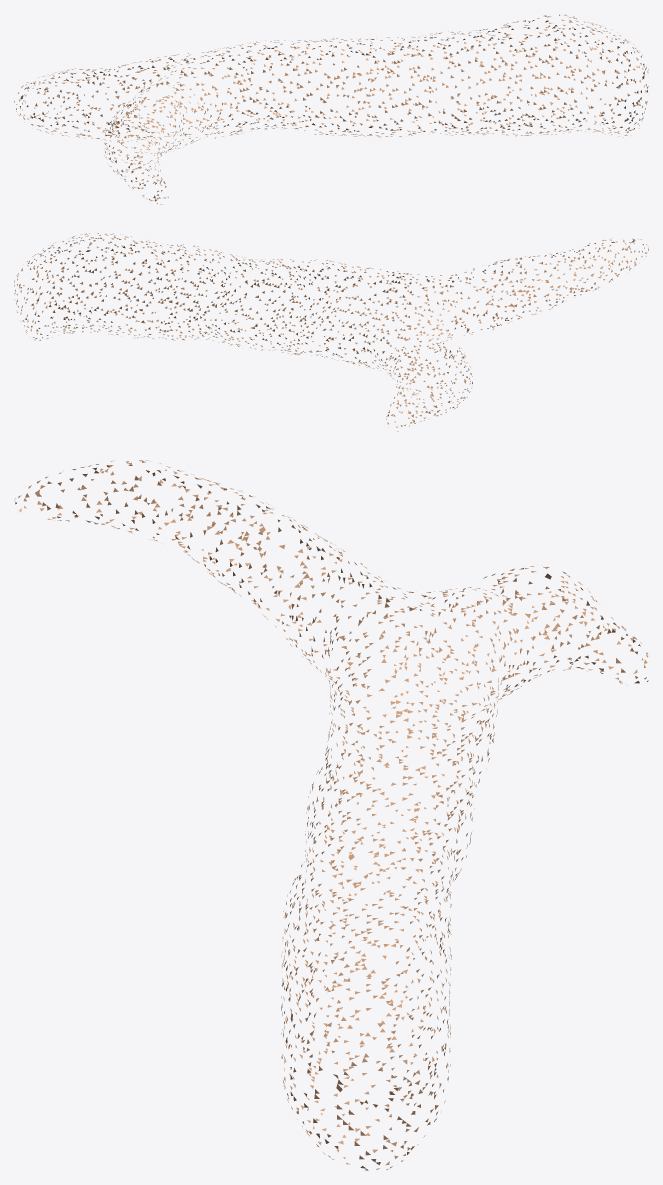
Rendered from morph_005.glb.
3 renders of one model, top to bottom at view 1: azimuth 30°, elevation 25°; view 2: azimuth 150°, elevation 25°; view 3: azimuth 270°, elevation 25°, orthographic. The views are drawn at different scales.
Bounding box in the file's own units: 134 × 40.56 × 80.28.
